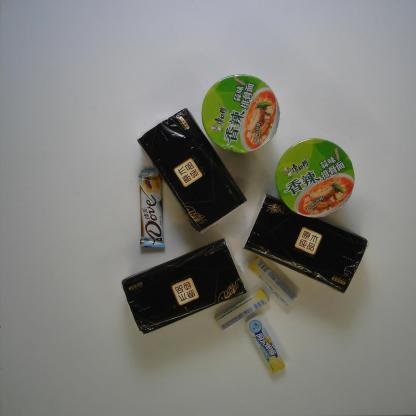Candy: (247, 256, 298, 308), (214, 287, 270, 332), (245, 314, 286, 374)
Chocolate: (138, 169, 166, 249)
Instant Noodles: (274, 137, 356, 219), (201, 74, 281, 154)
Tissue: (136, 108, 246, 234), (242, 192, 368, 294), (122, 237, 247, 335)
